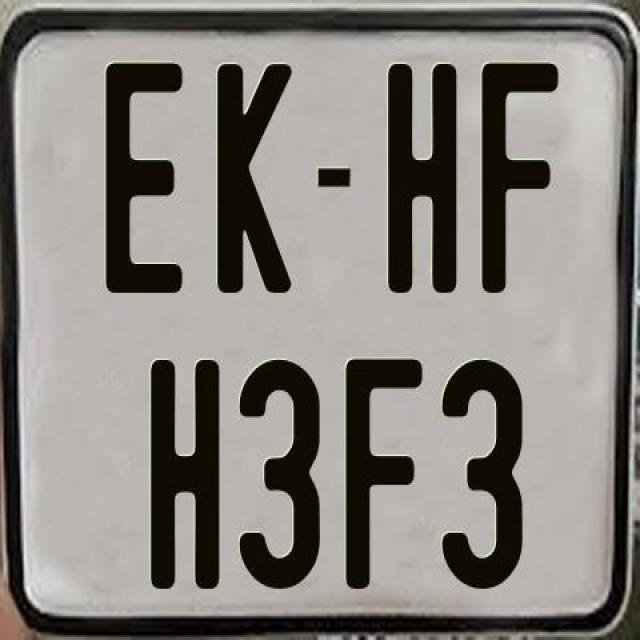3: (440, 360, 528, 598), (236, 355, 320, 587)
E: (102, 58, 188, 298)
F: (477, 59, 563, 298), (342, 358, 426, 597)
H: (388, 59, 459, 290), (148, 360, 219, 589)
K: (216, 59, 292, 291)
